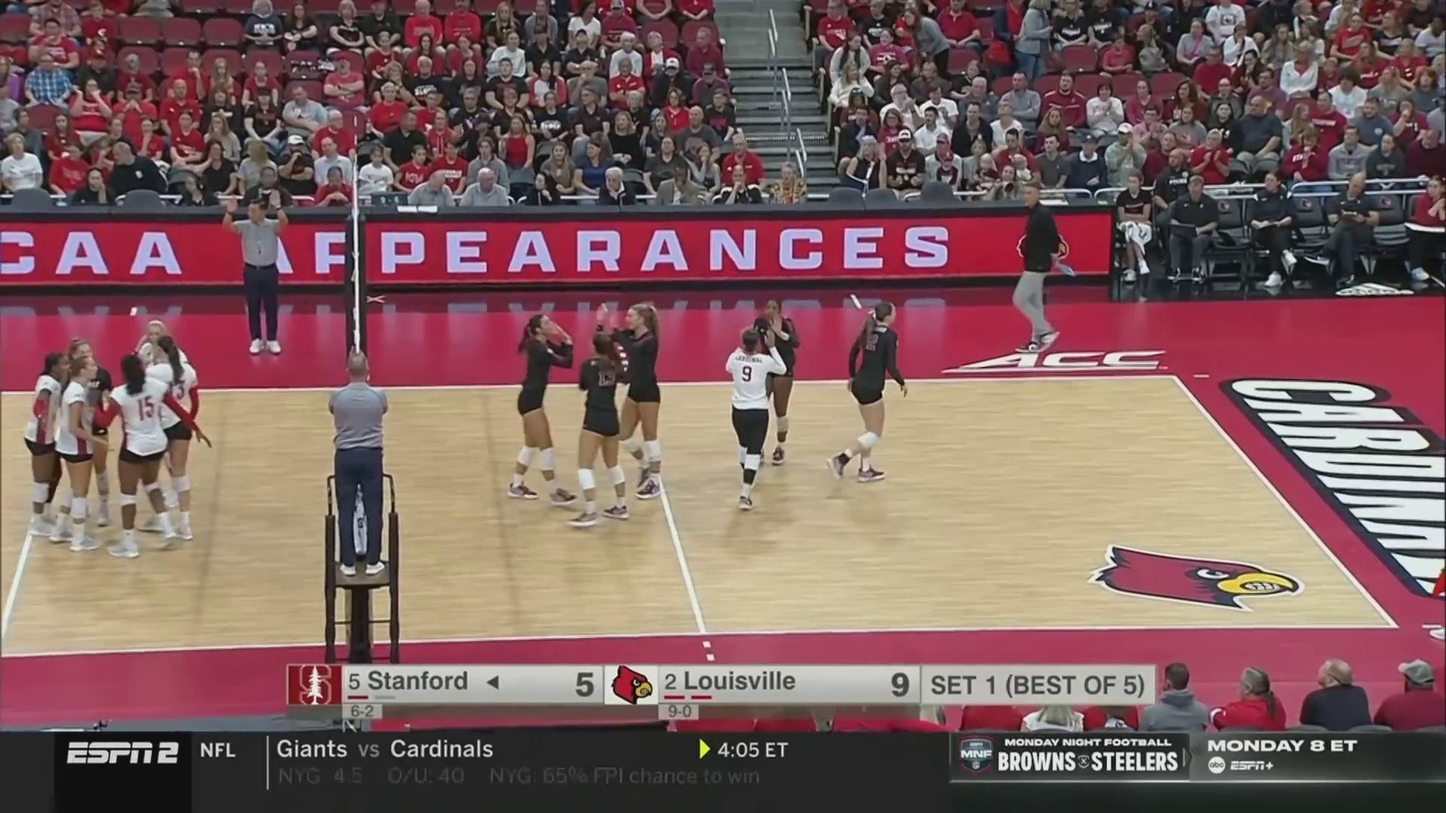player: (110, 359, 184, 559), (834, 303, 905, 482), (505, 312, 571, 499), (572, 336, 633, 528), (719, 326, 781, 512), (146, 339, 198, 542), (53, 357, 101, 547), (136, 322, 180, 529), (745, 298, 799, 466), (616, 304, 662, 497), (62, 341, 109, 524), (30, 354, 69, 538)
refree: (329, 350, 389, 576), (231, 204, 288, 353)
